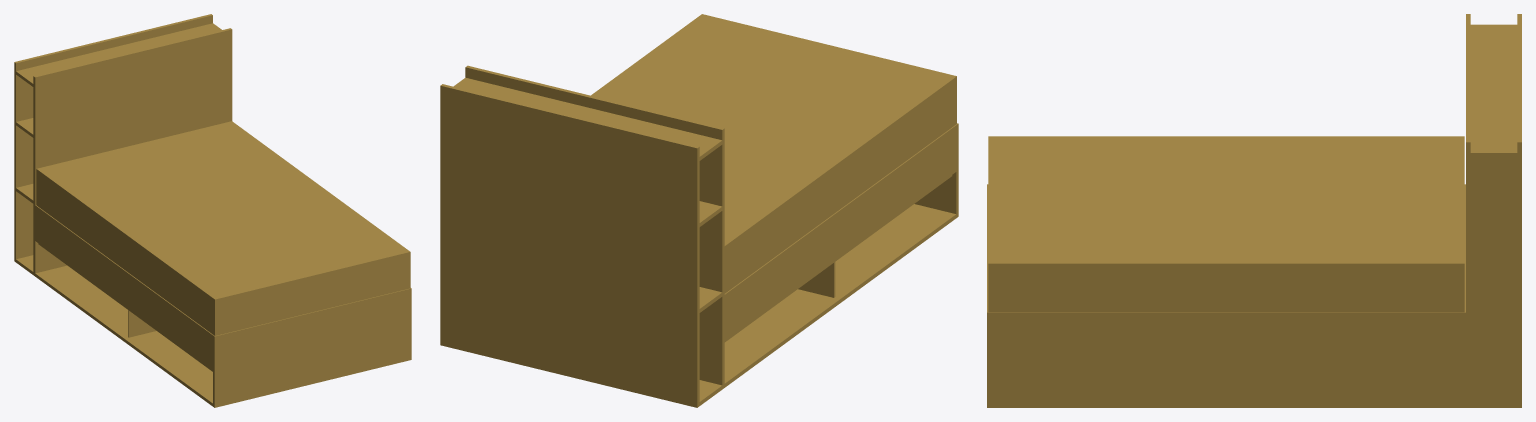
The model's file is KasurA.fbx.
3 views of the same model, side by side, from view 1: azimuth 30°, elevation 25°; view 2: azimuth 150°, elevation 25°; view 3: azimuth 270°, elevation 25° (orthographic). The views are drawn at different scales.
Visible parts, largest first — view 1: Cube.008; view 2: Cube.008; view 3: Cube.008.
Part boxes in pixels (x1,y1,x2,y2): Cube.008: (14, 14, 411, 407); Cube.008: (440, 14, 958, 407); Cube.008: (987, 14, 1521, 407).
Bounding box in the file's own units: 130 × 125 × 229.
